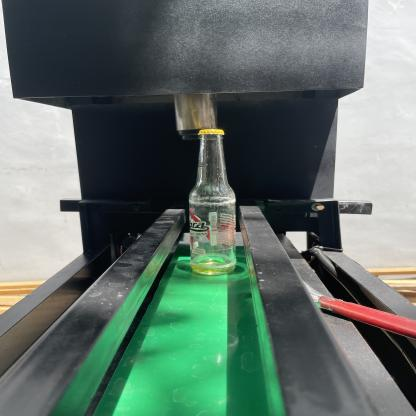Can: (188, 127, 241, 276)
